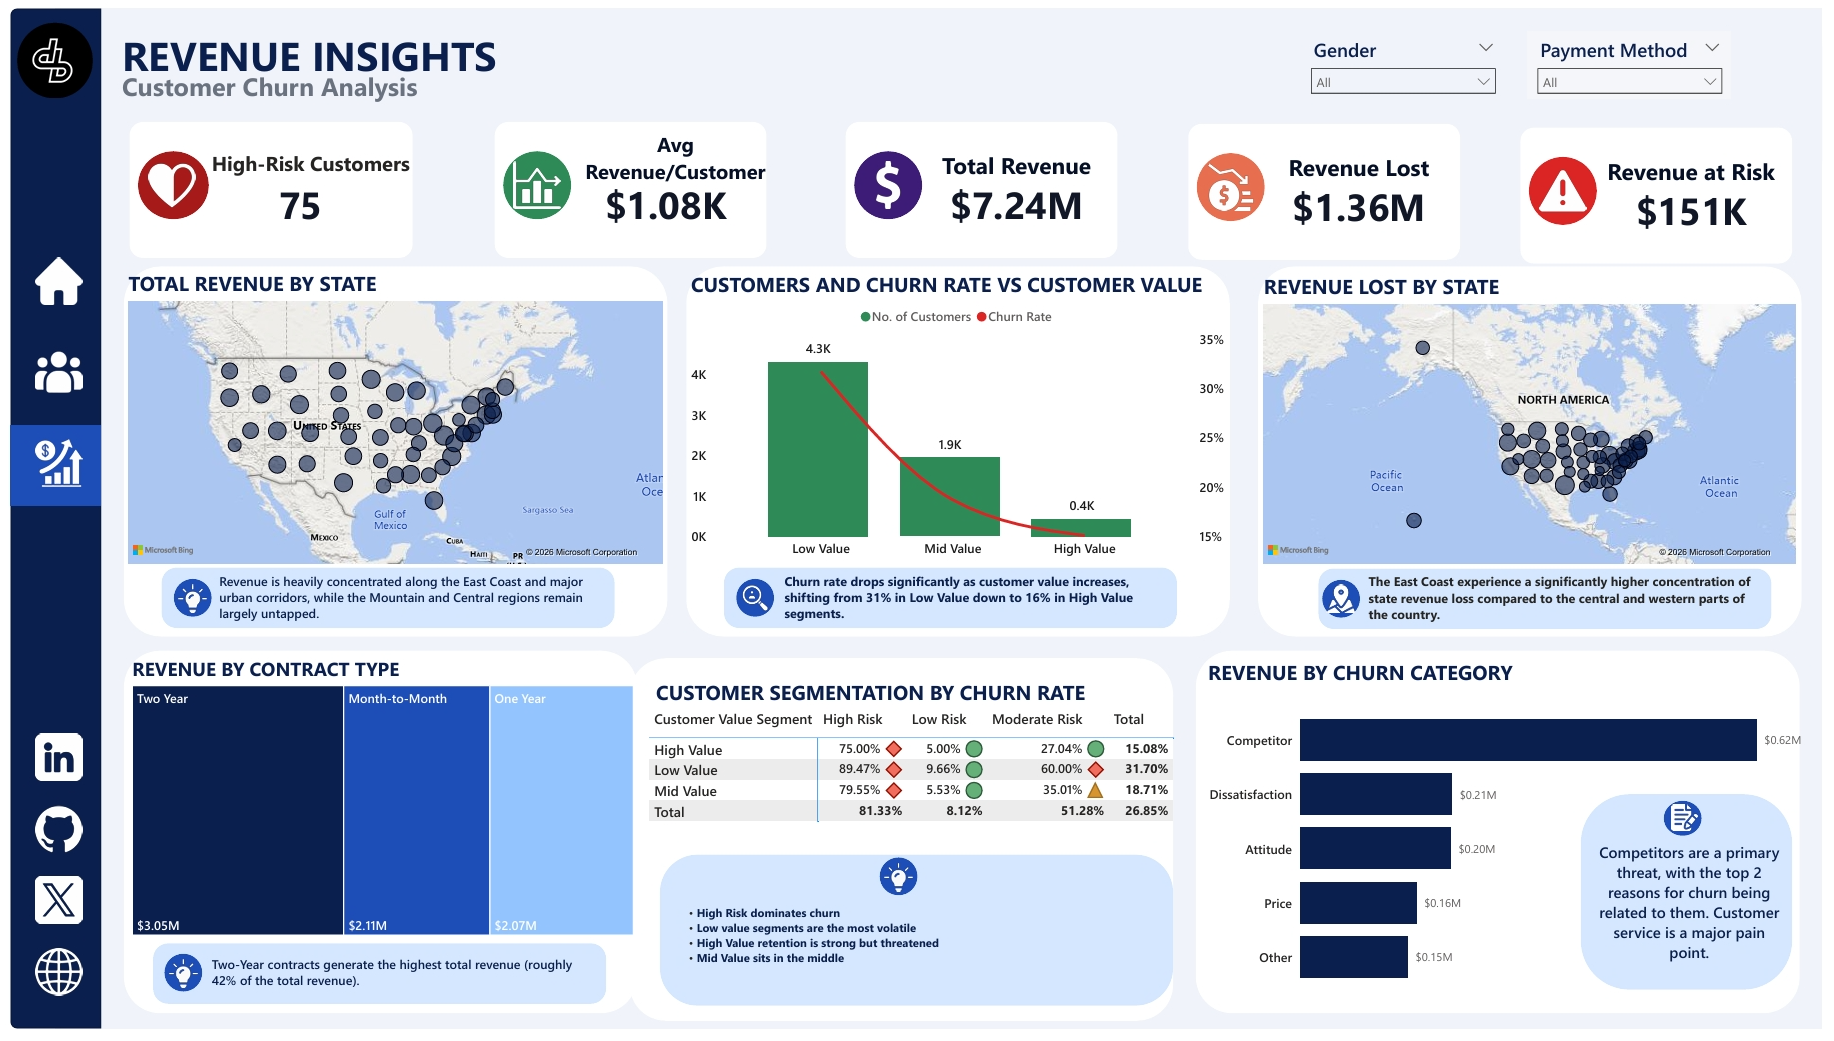

What the dashboard file says about the page in this screenshot:
{"tool":"powerbi","page":{"name":"Revenue Insights","canvas":[1920,1080],"ordinal":2},"visuals":[{"type":"shape","box":[48,-8,1872,1088],"z":0},{"type":"group","id":"g1","title":"Group 2","box":[126,120,300,144],"z":0,"group":"g14"},{"type":"shape","box":[126,120,300,144],"z":0,"group":"g1"},{"type":"group","id":"g2","title":"Group 2","box":[512.5,120,288,144],"z":0,"group":"g15"},{"type":"shape","box":[512.5,120,288,144],"z":0,"group":"g2"},{"type":"group","id":"g3","title":"Group 2","box":[885,120,288,144],"z":0,"group":"g16"},{"type":"shape","box":[885,120,288,144],"z":0,"group":"g3"},{"type":"group","id":"g4","title":"Group 2","box":[1247.5,122,288,144],"z":0,"group":"g17"},{"type":"shape","box":[1247.5,122,288,144],"z":0,"group":"g4"},{"type":"group","id":"g5","title":"Group 2","box":[1600,126,288,144],"z":0,"group":"g18"},{"type":"shape","box":[1600,126,288,144],"z":0,"group":"g5"},{"type":"shape","box":[135.4,151,75,72],"z":0,"group":"g6"},{"type":"shape","box":[521.5,151,72,72],"z":0,"group":"g7"},{"type":"shape","box":[894,151,72,72],"z":0,"group":"g8"},{"type":"shape","box":[1256.5,153,72,72],"z":0,"group":"g9"},{"type":"shape","box":[1609,157,72,72],"z":0,"group":"g10"},{"type":"shape","box":[120,273,576,392],"z":0,"group":"g13"},{"type":"shape","box":[716,273,576,392],"z":0,"group":"g12"},{"type":"shape","box":[1322,273,576,392],"z":0,"group":"g19"},{"type":"textbox","box":[815,592,416,80],"z":0,"group":"g21"},{"type":"shape","box":[173,604,40,40],"z":0,"group":"g20"},{"type":"shape","box":[769,604,40,40],"z":0,"group":"g11"},{"type":"shape","box":[1390,605,40,40],"z":0,"group":"g22"},{"type":"shape","box":[1664,832,224,206.8],"z":0,"group":"g23"},{"type":"shape","box":[921,899,40,40],"z":0,"group":"g25"},{"type":"shape","box":[163,1001,40,40],"z":0,"group":"g24"},{"type":"shape","box":[0,0,96,1080],"z":1000},{"type":"card","fields":{"Values":["_Calculations.No. of Customers for High Risk"]},"box":[223,135,168,144],"z":1000,"group":"g14"},{"type":"card","fields":{"Values":["Avg(Databel - Data.Total Charges)"]},"box":[609.5,135,168,144],"z":1000,"group":"g15"},{"type":"card","fields":{"Values":["Sum(Databel - Data.Total Charges)"]},"box":[982,135,168,144],"z":1000,"group":"g16"},{"type":"card","fields":{"Values":["_Calculations.Revenue Lost"]},"box":[1344.5,137,168,144],"z":1000,"group":"g17"},{"type":"card","fields":{"Values":["_Calculations.Sum of Total Charges for High Risk"]},"box":[1697,141,168,144],"z":1000,"group":"g18"},{"type":"group","id":"g6","title":"Group 1","box":[135.4,151,75,72],"z":1000,"group":"g1"},{"type":"group","id":"g7","title":"Group 1","box":[521.5,151,72,72],"z":1000,"group":"g2"},{"type":"group","id":"g8","title":"Group 1","box":[894,151,72,72],"z":1000,"group":"g3"},{"type":"group","id":"g9","title":"Group 1","box":[1256.5,153,72,72],"z":1000,"group":"g4"},{"type":"group","id":"g10","title":"Group 1","box":[1609,157,72,72],"z":1000,"group":"g5"},{"type":"image","box":[145.8,162,52.1,50],"z":1000,"group":"g6"},{"type":"image","box":[532.5,162,50,50],"z":1000,"group":"g7"},{"type":"image","box":[905,162,50,50],"z":1000,"group":"g8"},{"type":"image","box":[1267.5,164,50,50],"z":1000,"group":"g9"},{"type":"image","box":[1620,168,50,50],"z":1000,"group":"g10"},{"type":"shape","box":[160,592,480,64],"z":1000,"group":"g13"},{"type":"shape","box":[756,592,480,64],"z":1000,"group":"g12"},{"type":"shape","box":[1386,593,480,64],"z":1000,"group":"g19"},{"type":"group","id":"g11","title":"Group 8","box":[769,604,40,40],"z":1000,"group":"g21"},{"type":"image","box":[774,609,30,30],"z":1000,"group":"g11"},{"type":"image","box":[178,610,30,30],"z":1000,"group":"g20"},{"type":"image","box":[1395,610,30,30],"z":1000,"group":"g22"},{"type":"shape","box":[1752,839.4,40,36.9],"z":1000,"group":"g23"},{"type":"image","box":[926,905,30,30],"z":1000,"group":"g25"},{"type":"image","box":[168,1007,30,30],"z":1000,"group":"g24"},{"type":"textbox","box":[597.5,124,213,69],"z":2000,"group":"g15"},{"type":"textbox","box":[208,144,230,48],"z":2000,"group":"g14"},{"type":"textbox","box":[970,144,192,48],"z":2000,"group":"g16"},{"type":"textbox","box":[1332.5,146,192,48],"z":2000,"group":"g17"},{"type":"textbox","box":[1685,150,192,48],"z":2000,"group":"g18"},{"type":"shape","box":[0,442,96,85],"z":2000},{"type":"textbox","box":[216,592,432,64],"z":2000,"group":"g13"},{"type":"image","box":[1759,843.1,30,27.7],"z":2000,"group":"g23"},{"type":"group","id":"g12","title":"Group 6","box":[716,273,576,392],"z":3000},{"type":"shape","box":[1256,680,640,384],"z":4000},{"type":"shape","box":[656,688,576,384],"z":5000},{"type":"shape","box":[120,680,544,384],"z":6000},{"type":"group","id":"g13","title":"Group 6","box":[120,273,576,392],"z":7000},{"type":"image","box":[26,264,50,50],"z":8000},{"type":"image","box":[26,360,50,50],"z":9000},{"type":"image","box":[26,456,50,50],"z":10000},{"type":"textbox","box":[113,15,504,96],"z":11000},{"type":"textbox","box":[113,59,432,48],"z":12000},{"type":"image","box":[26,768,50,50],"z":13000},{"type":"image","box":[26,843.7,50,50],"z":14000},{"type":"image","box":[26,919.3,50,50],"z":15000},{"type":"image","box":[26,995,50,50],"z":16000},{"type":"group","id":"g14","title":"Group 3","box":[126,120,312,159],"z":17000},{"type":"group","id":"g15","title":"Group 3","box":[512.5,120,298,159],"z":18000},{"type":"group","id":"g16","title":"Group 3","box":[885,120,288,168],"z":19000},{"type":"group","id":"g17","title":"Group 3","box":[1247.5,122,288,168],"z":20000},{"type":"group","id":"g18","title":"Group 3","box":[1600,126,288,160],"z":21000},{"type":"shape","box":[151,990,480,64],"z":22000},{"type":"group","id":"g19","title":"Group 6","box":[1322,273,576,392],"z":23000},{"type":"group","id":"g20","title":"Group 7","box":[173,604,40,40],"z":24000},{"type":"group","id":"g21","title":"Group 9","box":[769,592,462,80],"z":25000},{"type":"group","id":"g22","title":"Group 10","box":[1390,605,40,40],"z":26000},{"type":"group","id":"g23","title":"Group 11","box":[1664,832,208,192],"z":27000},{"type":"slicer","fields":{"Values":["Databel - Data.Gender"]},"box":[1368,24,216,72],"z":28000},{"type":"slicer","fields":{"Values":["Databel - Data.Payment Method"]},"box":[1608,24,216,72],"z":29000},{"type":"textbox","box":[1671,878,216,144],"z":30000},{"type":"treemap","title":"REVENUE BY CONTRACT TYPE","fields":{"Values":["_Calculations.Total Revenue"],"Group":["DimContract.Contract Type"]},"box":[124,685,541,301],"z":31000},{"type":"clusteredBarChart","title":"REVENUE BY CHURN CATEGORY","fields":{"Category":["DimChurn.Churn Category"],"Y":["_Calculations.Total Revenue"]},"box":[1264,688,640,368],"z":32000},{"type":"map","title":"REVENUE LOST BY STATE","fields":{"Category":["DimGeography.State"],"Size":["_Calculations.Revenue Lost"]},"box":[1323,279,574,314],"z":33000},{"type":"map","title":"TOTAL REVENUE BY STATE","fields":{"Size":["_Calculations.Total Revenue"],"Category":["DimGeography.State"]},"box":[120,276,576,317],"z":34000},{"type":"lineClusteredColumnComboChart","title":"CUSTOMERS AND CHURN RATE VS CUSTOMER VALUE","fields":{"Category":["DimSegmentation.Customer Value Segment"],"Y":["_Calculations.No. of Customers"],"Y2":["_Calculations.Churn Rate"]},"box":[716,277,576,314],"z":35000},{"type":"pivotTable","title":"CUSTOMER SEGMENTATION BY CHURN RATE","fields":{"Rows":["DimSegmentation.Customer Value Segment"],"Columns":["DimSegmentation.Customer Risk Segment"],"Values":["_Calculations.Churn Rate"]},"box":[672,736,576,144],"z":36000},{"type":"group","id":"g24","title":"Group 7","box":[163,1001,40,40],"z":37000},{"type":"textbox","box":[208,998,416,48],"z":38000},{"type":"textbox","box":[679,704,480,40],"z":39000},{"type":"shape","box":[688,896,544,160],"z":40000},{"type":"group","id":"g25","title":"Group 7","box":[921,899,40,40],"z":41000},{"type":"textbox","box":[704,944,480,80],"z":42000},{"type":"textbox","box":[1434,593,432,64],"z":43000},{"type":"image","box":[7,15,80,80],"z":43001}]}

Visuals, with their boxes on the page's 1920x1080 design canvas (x1, y1, x2, y2). These are canvas units, not pixel positions in the 1834x1041 screenshot, which may show the page scaled, cropped or inside an application window:
shape: <bbox>48, -8, 1920, 1080</bbox>
"Group 2" group: <bbox>126, 120, 426, 264</bbox>
shape: <bbox>126, 120, 426, 264</bbox>
"Group 2" group: <bbox>512, 120, 800, 264</bbox>
shape: <bbox>512, 120, 800, 264</bbox>
"Group 2" group: <bbox>885, 120, 1173, 264</bbox>
shape: <bbox>885, 120, 1173, 264</bbox>
"Group 2" group: <bbox>1248, 122, 1536, 266</bbox>
shape: <bbox>1248, 122, 1536, 266</bbox>
"Group 2" group: <bbox>1600, 126, 1888, 270</bbox>
shape: <bbox>1600, 126, 1888, 270</bbox>
shape: <bbox>135, 151, 210, 223</bbox>
shape: <bbox>522, 151, 594, 223</bbox>
shape: <bbox>894, 151, 966, 223</bbox>
shape: <bbox>1256, 153, 1328, 225</bbox>
shape: <bbox>1609, 157, 1681, 229</bbox>
shape: <bbox>120, 273, 696, 665</bbox>
shape: <bbox>716, 273, 1292, 665</bbox>
shape: <bbox>1322, 273, 1898, 665</bbox>
textbox: <bbox>815, 592, 1231, 672</bbox>
shape: <bbox>173, 604, 213, 644</bbox>
shape: <bbox>769, 604, 809, 644</bbox>
shape: <bbox>1390, 605, 1430, 645</bbox>
shape: <bbox>1664, 832, 1888, 1039</bbox>
shape: <bbox>921, 899, 961, 939</bbox>
shape: <bbox>163, 1001, 203, 1041</bbox>
shape: <bbox>0, 0, 96, 1080</bbox>
card - _Calculations.No. of Customers for High Risk: <bbox>223, 135, 391, 279</bbox>
card - Avg(Databel - Data.Total Charges): <bbox>610, 135, 778, 279</bbox>
card - Sum(Databel - Data.Total Charges): <bbox>982, 135, 1150, 279</bbox>
card - _Calculations.Revenue Lost: <bbox>1344, 137, 1512, 281</bbox>
card - _Calculations.Sum of Total Charges for High Risk: <bbox>1697, 141, 1865, 285</bbox>
"Group 1" group: <bbox>135, 151, 210, 223</bbox>
"Group 1" group: <bbox>522, 151, 594, 223</bbox>
"Group 1" group: <bbox>894, 151, 966, 223</bbox>
"Group 1" group: <bbox>1256, 153, 1328, 225</bbox>
"Group 1" group: <bbox>1609, 157, 1681, 229</bbox>
image: <bbox>146, 162, 198, 212</bbox>
image: <bbox>532, 162, 582, 212</bbox>
image: <bbox>905, 162, 955, 212</bbox>
image: <bbox>1268, 164, 1318, 214</bbox>
image: <bbox>1620, 168, 1670, 218</bbox>
shape: <bbox>160, 592, 640, 656</bbox>
shape: <bbox>756, 592, 1236, 656</bbox>
shape: <bbox>1386, 593, 1866, 657</bbox>
"Group 8" group: <bbox>769, 604, 809, 644</bbox>
image: <bbox>774, 609, 804, 639</bbox>
image: <bbox>178, 610, 208, 640</bbox>
image: <bbox>1395, 610, 1425, 640</bbox>
shape: <bbox>1752, 839, 1792, 876</bbox>
image: <bbox>926, 905, 956, 935</bbox>
image: <bbox>168, 1007, 198, 1037</bbox>
textbox: <bbox>598, 124, 810, 193</bbox>
textbox: <bbox>208, 144, 438, 192</bbox>
textbox: <bbox>970, 144, 1162, 192</bbox>
textbox: <bbox>1332, 146, 1524, 194</bbox>
textbox: <bbox>1685, 150, 1877, 198</bbox>
shape: <bbox>0, 442, 96, 527</bbox>
textbox: <bbox>216, 592, 648, 656</bbox>
image: <bbox>1759, 843, 1789, 871</bbox>
"Group 6" group: <bbox>716, 273, 1292, 665</bbox>
shape: <bbox>1256, 680, 1896, 1064</bbox>
shape: <bbox>656, 688, 1232, 1072</bbox>
shape: <bbox>120, 680, 664, 1064</bbox>
"Group 6" group: <bbox>120, 273, 696, 665</bbox>
image: <bbox>26, 264, 76, 314</bbox>
image: <bbox>26, 360, 76, 410</bbox>
image: <bbox>26, 456, 76, 506</bbox>
textbox: <bbox>113, 15, 617, 111</bbox>
textbox: <bbox>113, 59, 545, 107</bbox>
image: <bbox>26, 768, 76, 818</bbox>
image: <bbox>26, 844, 76, 894</bbox>
image: <bbox>26, 919, 76, 969</bbox>
image: <bbox>26, 995, 76, 1045</bbox>
"Group 3" group: <bbox>126, 120, 438, 279</bbox>
"Group 3" group: <bbox>512, 120, 810, 279</bbox>
"Group 3" group: <bbox>885, 120, 1173, 288</bbox>
"Group 3" group: <bbox>1248, 122, 1536, 290</bbox>
"Group 3" group: <bbox>1600, 126, 1888, 286</bbox>
shape: <bbox>151, 990, 631, 1054</bbox>
"Group 6" group: <bbox>1322, 273, 1898, 665</bbox>
"Group 7" group: <bbox>173, 604, 213, 644</bbox>
"Group 9" group: <bbox>769, 592, 1231, 672</bbox>
"Group 10" group: <bbox>1390, 605, 1430, 645</bbox>
"Group 11" group: <bbox>1664, 832, 1872, 1024</bbox>
slicer - Databel - Data.Gender: <bbox>1368, 24, 1584, 96</bbox>
slicer - Databel - Data.Payment Method: <bbox>1608, 24, 1824, 96</bbox>
textbox: <bbox>1671, 878, 1887, 1022</bbox>
"REVENUE BY CONTRACT TYPE" treemap: <bbox>124, 685, 665, 986</bbox>
"REVENUE BY CHURN CATEGORY" clusteredBarChart: <bbox>1264, 688, 1904, 1056</bbox>
"REVENUE LOST BY STATE" map: <bbox>1323, 279, 1897, 593</bbox>
"TOTAL REVENUE BY STATE" map: <bbox>120, 276, 696, 593</bbox>
"CUSTOMERS AND CHURN RATE VS CUSTOMER VALUE" lineClusteredColumnComboChart: <bbox>716, 277, 1292, 591</bbox>
"CUSTOMER SEGMENTATION BY CHURN RATE" pivotTable: <bbox>672, 736, 1248, 880</bbox>
"Group 7" group: <bbox>163, 1001, 203, 1041</bbox>
textbox: <bbox>208, 998, 624, 1046</bbox>
textbox: <bbox>679, 704, 1159, 744</bbox>
shape: <bbox>688, 896, 1232, 1056</bbox>
"Group 7" group: <bbox>921, 899, 961, 939</bbox>
textbox: <bbox>704, 944, 1184, 1024</bbox>
textbox: <bbox>1434, 593, 1866, 657</bbox>
image: <bbox>7, 15, 87, 95</bbox>
